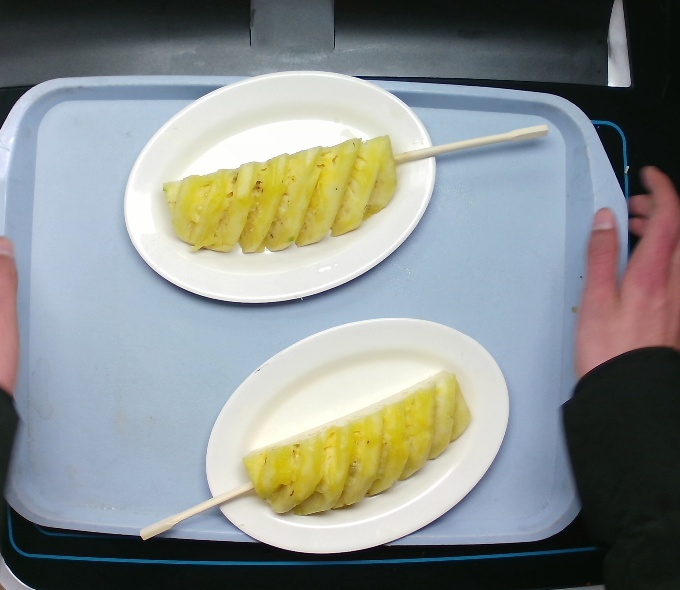wcq-BoLuo: (220, 359, 475, 527), (157, 128, 414, 267)
